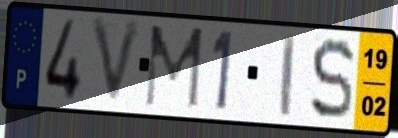1: (210, 29, 235, 115)
4: (43, 15, 84, 104)
I: (279, 32, 297, 120)
M: (142, 23, 206, 112)
S: (308, 35, 357, 123)
V: (88, 15, 146, 110)
